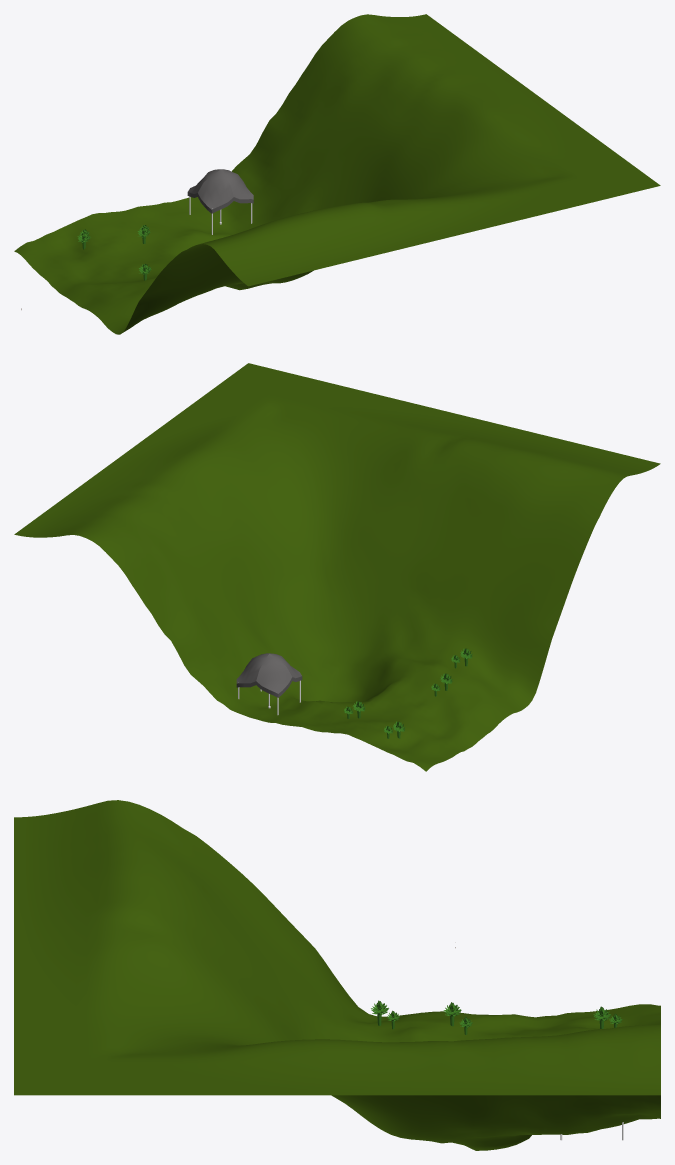
Rendered from terreno izq arriba .fbx.
The picture shows the model from 3 angles, top to bottom: view 1: azimuth 30°, elevation 25°; view 2: azimuth 150°, elevation 25°; view 3: azimuth 270°, elevation 25°; orthographic projection. The views are drawn at different scales.
Parts seen in each view (by area): view 1: IZQ ARRIBA; view 2: IZQ ARRIBA; view 3: IZQ ARRIBA.
Part boxes in pixels (x1,y1,x2,y2): IZQ ARRIBA: [14, 14, 660, 334]; IZQ ARRIBA: [14, 363, 660, 771]; IZQ ARRIBA: [14, 800, 660, 1150].
Bounding box in the file's own units: 35392 × 12232 × 29986.
